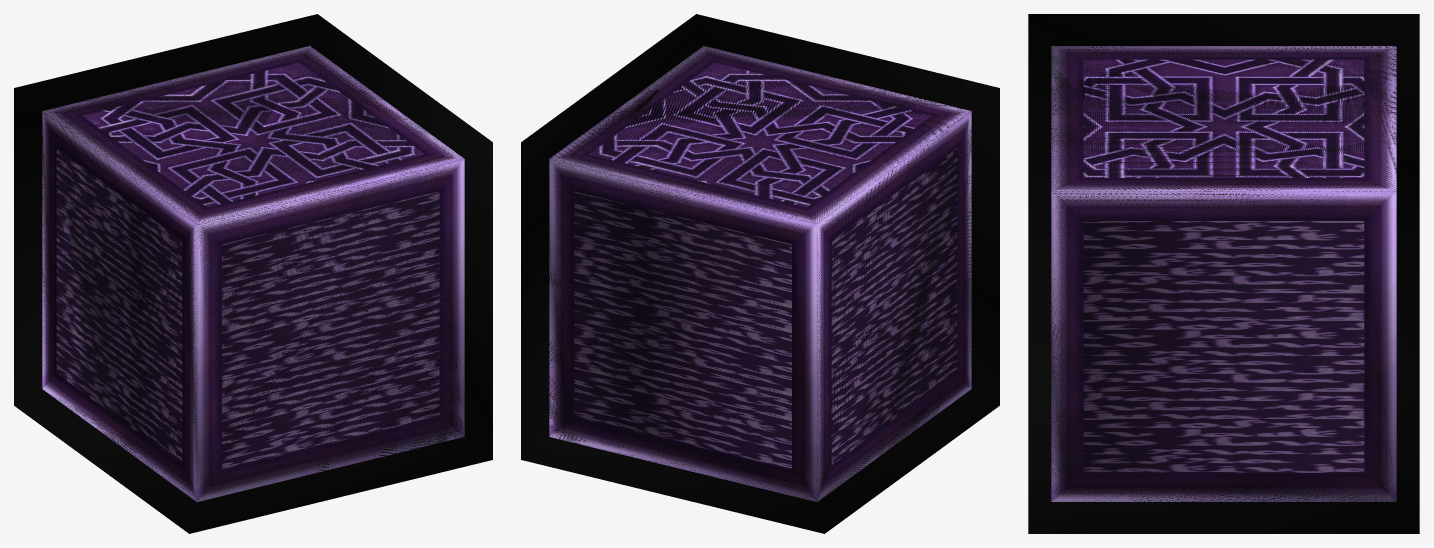
File: WonderBlock1.gltf
The picture shows the model from 3 angles, left to right: view 1: azimuth 30°, elevation 25°; view 2: azimuth 150°, elevation 25°; view 3: azimuth 270°, elevation 25°; orthographic projection. The views are drawn at different scales.
Visible parts, largest first — view 1: WonderBlock1Mesh, WonderBlock1ZWriteMesh, WonderBlock1BloomMesh; view 2: WonderBlock1Mesh, WonderBlock1BloomMesh, WonderBlock1ZWriteMesh; view 3: WonderBlock1Mesh, WonderBlock1BloomMesh, WonderBlock1ZWriteMesh.
Part boxes in pixels (<box>): WonderBlock1Mesh: <box>42,46,464,501</box>; WonderBlock1ZWriteMesh: <box>42,46,463,498</box>; WonderBlock1BloomMesh: <box>14,14,492,533</box>; WonderBlock1Mesh: <box>549,46,971,501</box>; WonderBlock1BloomMesh: <box>521,14,999,533</box>; WonderBlock1ZWriteMesh: <box>549,46,971,501</box>; WonderBlock1Mesh: <box>1051,46,1396,501</box>; WonderBlock1BloomMesh: <box>1028,14,1419,533</box>; WonderBlock1ZWriteMesh: <box>1051,46,1396,501</box>.
Size of the model in its own units: 1.2 by 1.2 by 1.2.
4 materials, 2 textured.
